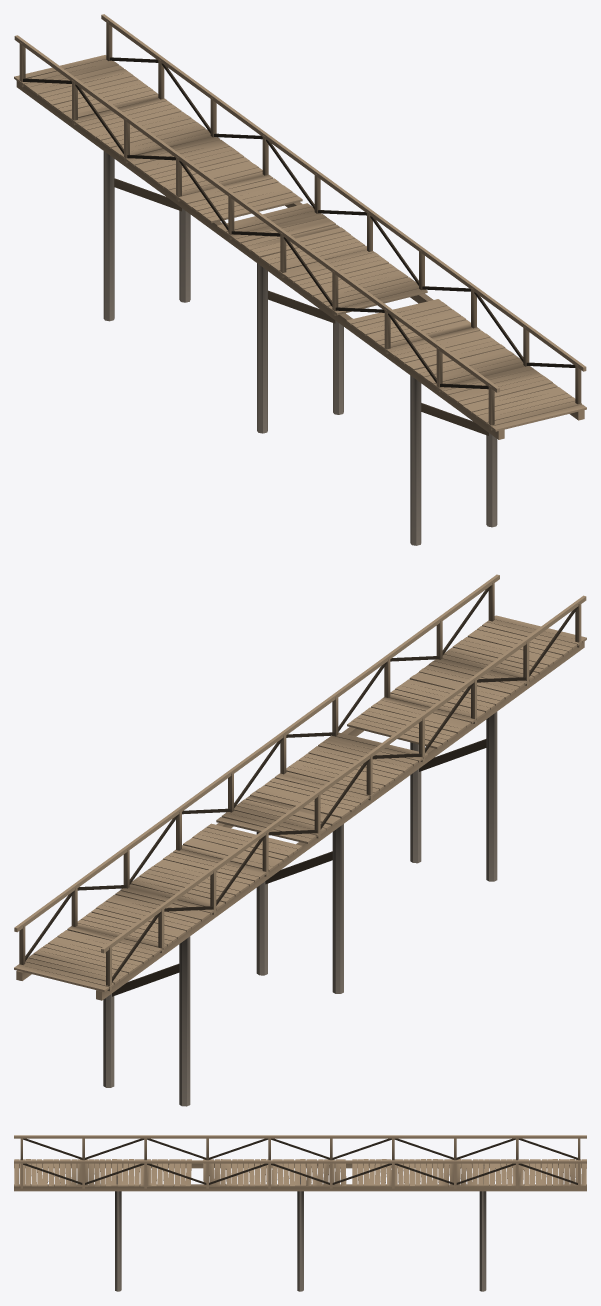
File: bridge_wood.glb
3 views of the same model, one above another, from view 1: azimuth 30°, elevation 25°; view 2: azimuth 150°, elevation 25°; view 3: azimuth 270°, elevation 25° (orthographic). The views are drawn at different scales.
Visible parts, largest first — view 1: bridge_wood; view 2: bridge_wood; view 3: bridge_wood.
Part boxes in pixels (x1,y1,x2,y2): bridge_wood: (14, 14, 586, 545); bridge_wood: (14, 574, 586, 1106); bridge_wood: (14, 1135, 586, 1291).
Size of the model in its own units: 2.4 by 5.55 by 22.
